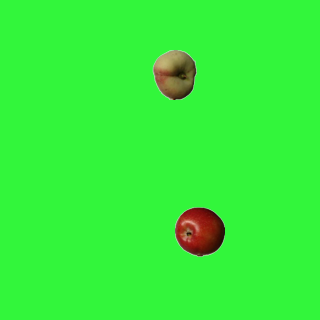Apple Braeburn: (174, 206, 224, 256)
Peach Flat: (149, 49, 199, 99)
